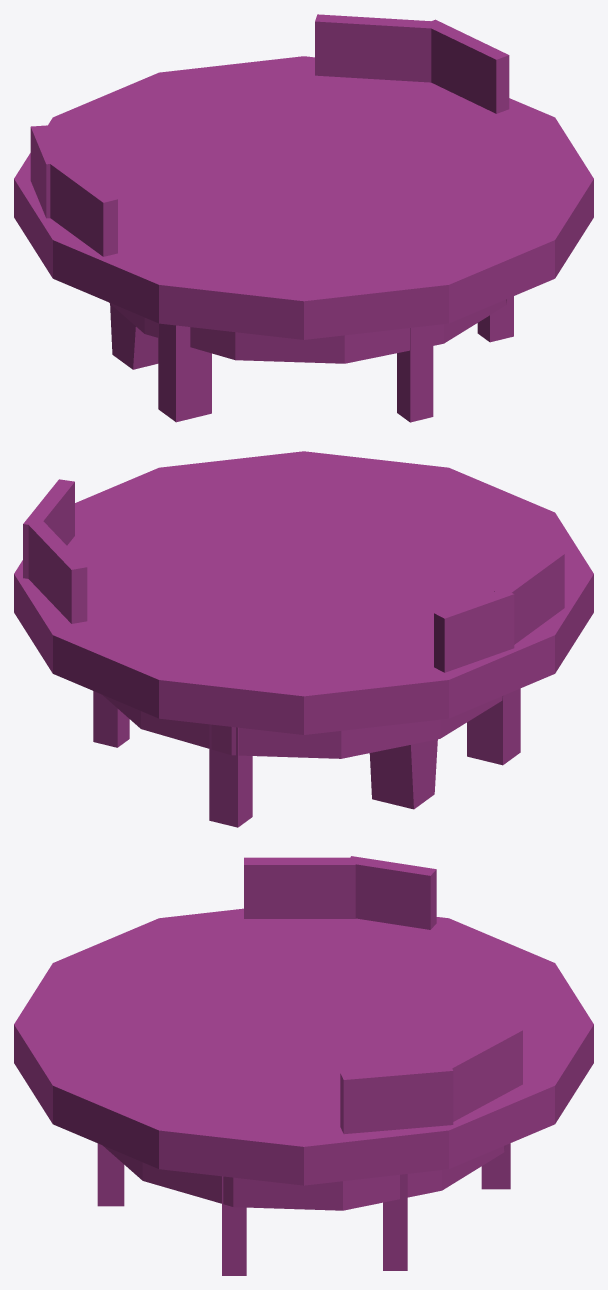
File: SM_Bld_Tent_Platform_03_Collision.fbx
The picture shows the model from 3 angles, top to bottom: view 1: azimuth 30°, elevation 25°; view 2: azimuth 150°, elevation 25°; view 3: azimuth 270°, elevation 25°; orthographic projection.
Visible parts, largest first — view 1: SM_Bld_Tent_Platform_03_Collision; view 2: SM_Bld_Tent_Platform_03_Collision; view 3: SM_Bld_Tent_Platform_03_Collision.
Part boxes in pixels (left/top/right/bottom): SM_Bld_Tent_Platform_03_Collision: left=14, top=14, right=593, bottom=422; SM_Bld_Tent_Platform_03_Collision: left=14, top=451, right=593, bottom=827; SM_Bld_Tent_Platform_03_Collision: left=14, top=856, right=593, bottom=1275.
Bounding box in the file's own units: 886 × 376 × 886.
